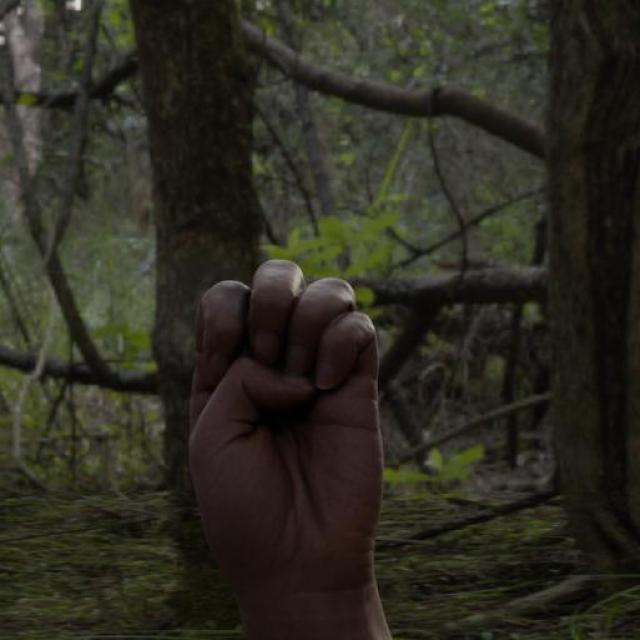E: (157, 252, 391, 616)
